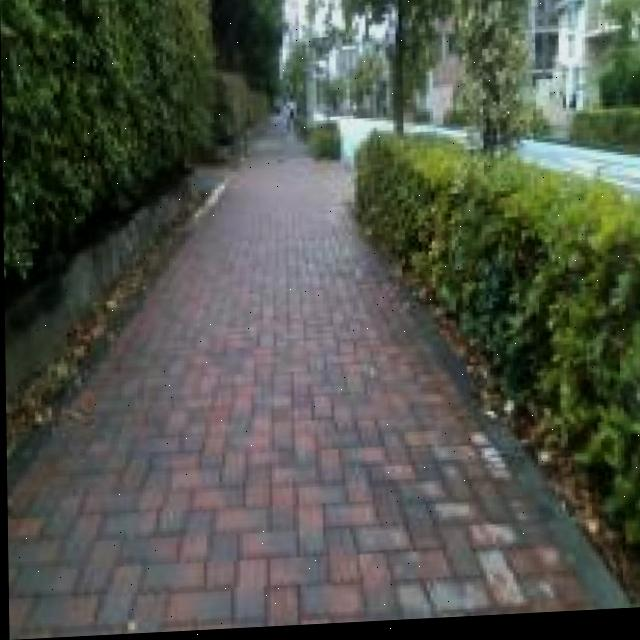Obstacle: (356, 139, 640, 584), (307, 127, 339, 162)
Road: (516, 145, 640, 199), (330, 120, 388, 167), (410, 129, 465, 147)
Sidewalk: (6, 125, 599, 640)
